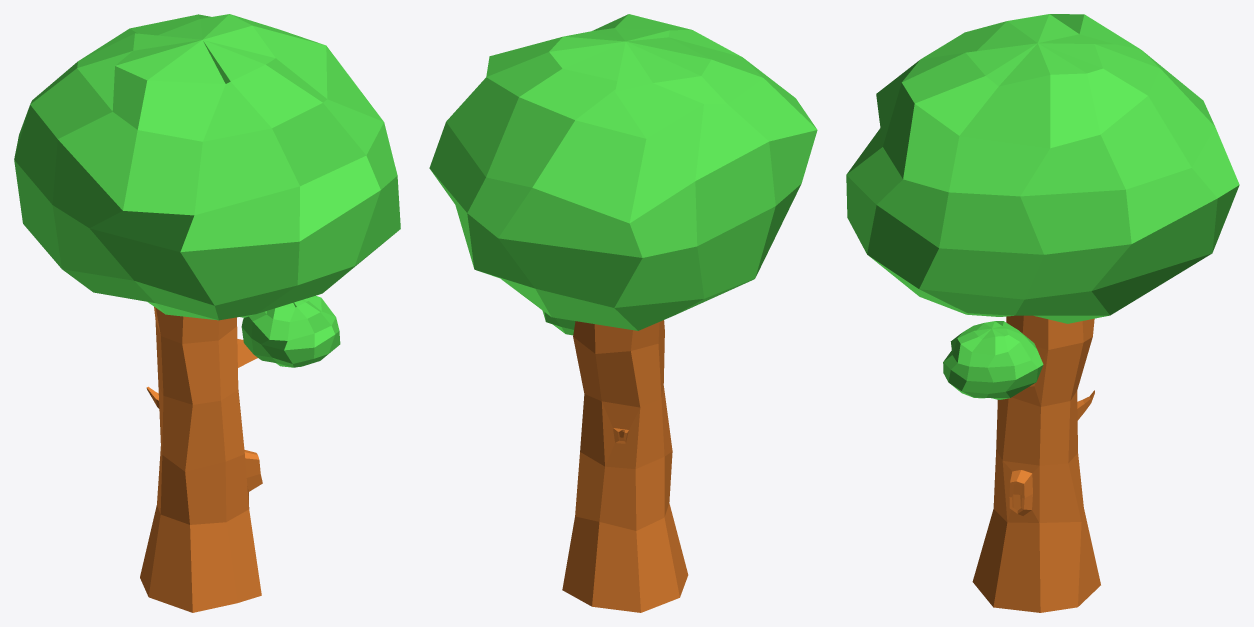
The model's file is Derevo_LowPoly.fbx.
3 views of the same model, side by side, from view 1: azimuth 30°, elevation 25°; view 2: azimuth 150°, elevation 25°; view 3: azimuth 270°, elevation 25° (orthographic).
Visible parts, largest first — view 1: Sphere; view 2: Sphere; view 3: Sphere.
Boxes of the visible parts, x1,y1,x2,y2 form: Sphere: (14,14,400,612); Sphere: (429,14,817,612); Sphere: (846,14,1239,612).
Bounding box in the file's own units: 2.89 × 4.93 × 3.22.
